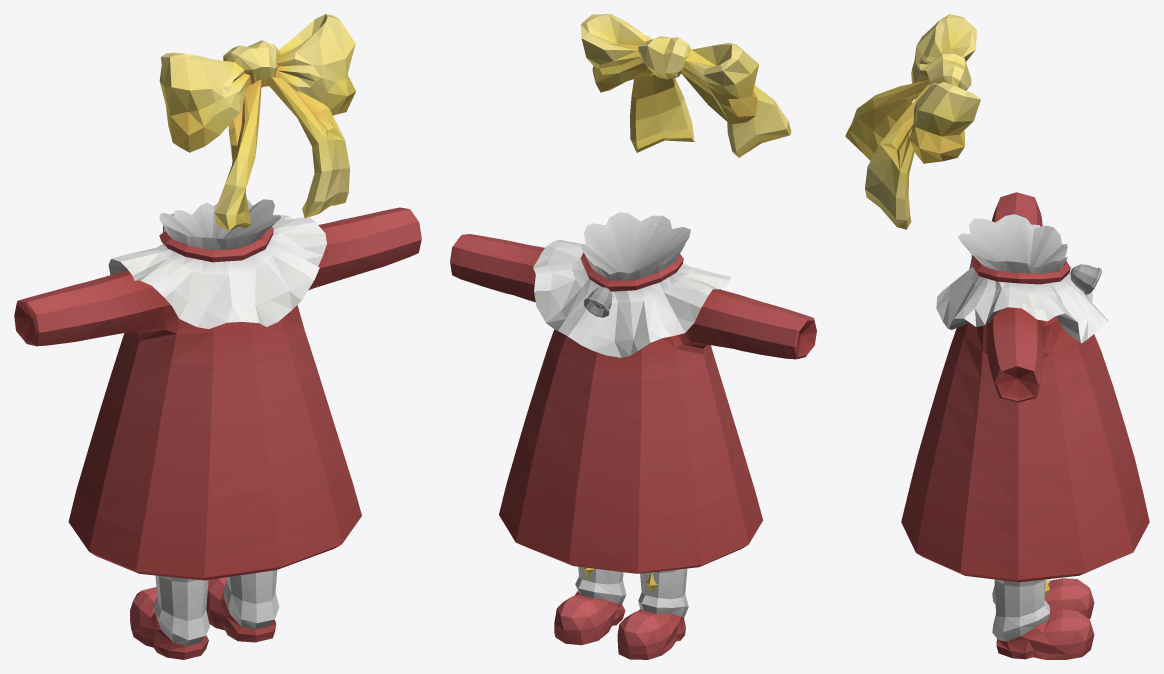
Rendered from NPC_AP24BellDress.glb.
3 renders of one model, left to right at view 1: azimuth 30°, elevation 25°; view 2: azimuth 150°, elevation 25°; view 3: azimuth 270°, elevation 25°, orthographic. The views are drawn at different scales.
Visible parts, largest first — view 1: NPC_AP24BellDress; view 2: NPC_AP24BellDress; view 3: NPC_AP24BellDress.
Boxes of the visible parts, x1,y1,x2,y2 form: NPC_AP24BellDress: (14, 14, 421, 659); NPC_AP24BellDress: (450, 14, 816, 659); NPC_AP24BellDress: (845, 14, 1149, 659).
Size of the model in its own units: 8.42 by 13.22 by 6.25.
1 material, 1 textured.
